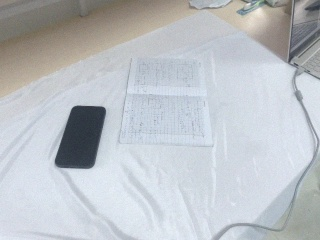phone: (54, 105, 106, 169)
